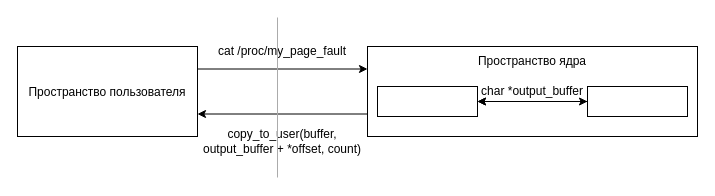
Some shapes in this 715 by 196 pixel diagram are drawn without their labels. Here are the shapes that lost their labels. From the top down, the box of each, then its label:
(376, 86, 478, 116): reader()
(586, 86, 688, 116): create_buffer()
